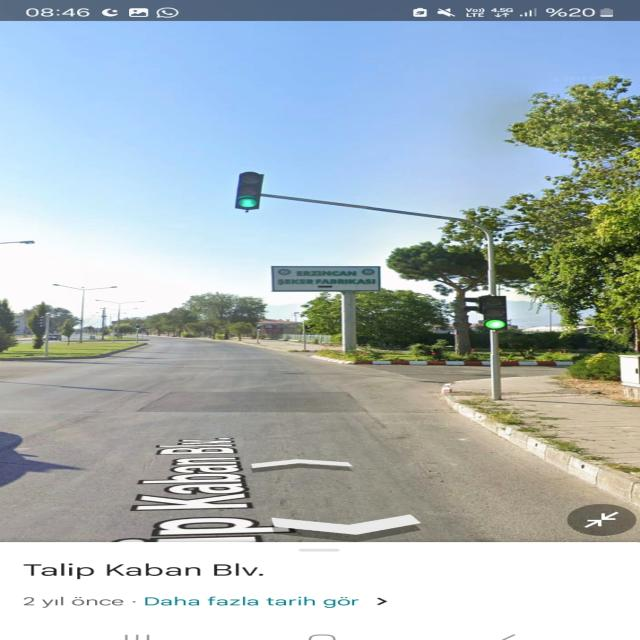yesil: (236, 172, 264, 210), (482, 295, 508, 331)
